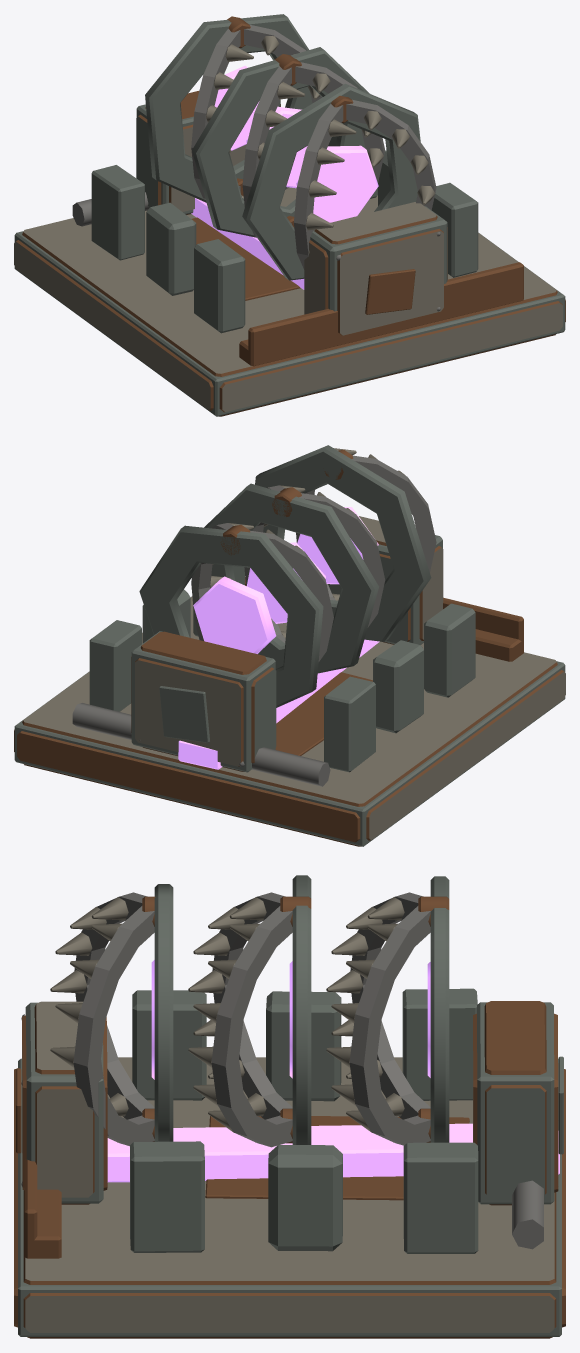
The model's file is R4X_SnareTrapDeployer.fbx.
3 renders of one model, top to bottom at view 1: azimuth 30°, elevation 25°; view 2: azimuth 150°, elevation 25°; view 3: azimuth 270°, elevation 25°, orthographic. The views are drawn at different scales.
Visible parts, largest first — view 1: R4X_SnareTrapDeployer_Body, R4X_SnareTrapDeployer_Payload; view 2: R4X_SnareTrapDeployer_Body, R4X_SnareTrapDeployer_Payload; view 3: R4X_SnareTrapDeployer_Body, R4X_SnareTrapDeployer_Payload.
Part boxes in pixels (<box>): R4X_SnareTrapDeployer_Body: <box>14,91,565,416</box>; R4X_SnareTrapDeployer_Payload: <box>145,14,436,280</box>; R4X_SnareTrapDeployer_Body: <box>14,516,565,846</box>; R4X_SnareTrapDeployer_Payload: <box>139,445,436,707</box>; R4X_SnareTrapDeployer_Body: <box>14,988,565,1338</box>; R4X_SnareTrapDeployer_Payload: <box>50,875,449,1147</box>.
Bounding box in the file's own units: 0.52 × 0.3504 × 0.52.
